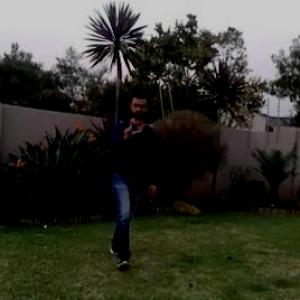land_hand: (120, 115, 141, 142)
